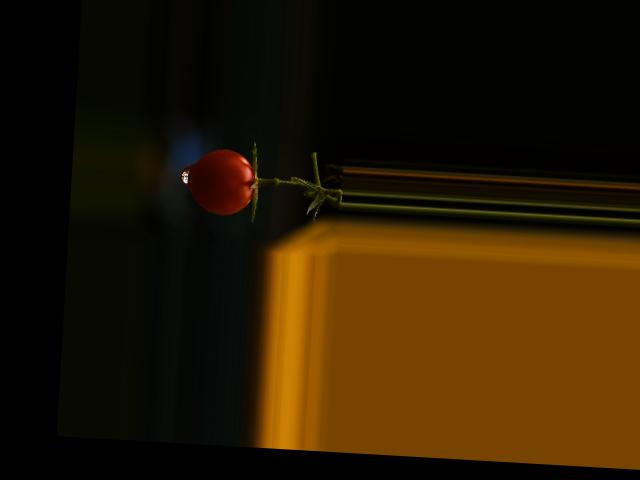tomato: (188, 146, 256, 215)
